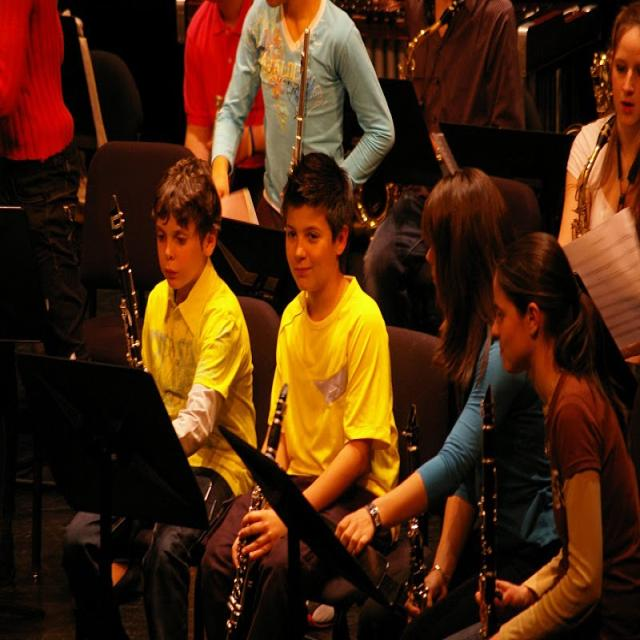clarinet: (222, 380, 289, 638), (109, 193, 148, 372), (477, 384, 499, 639), (402, 405, 429, 609)
saxophone: (356, 0, 457, 227), (572, 111, 618, 242)
